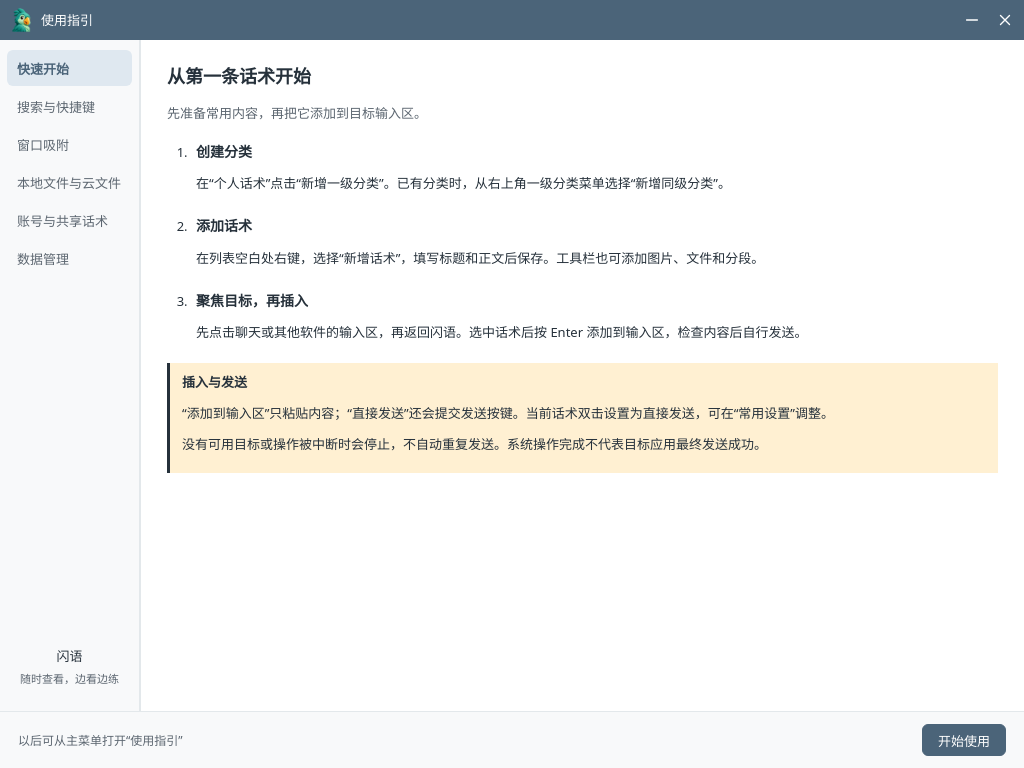
指引显示当前快捷键及点击设置，查看主题不提交投递或示例数据
expect the text "“添加到输入区”只粘贴内容；“直接发送”还会提交发送按键。当前话术双击设置为直接发送，可在“常用设置”调整。" is shown: met, box x1=182 y1=404 x2=834 y2=422
Click the button "搜索与快捷键": (70, 106) x1=7 y1=88 x2=132 y2=124
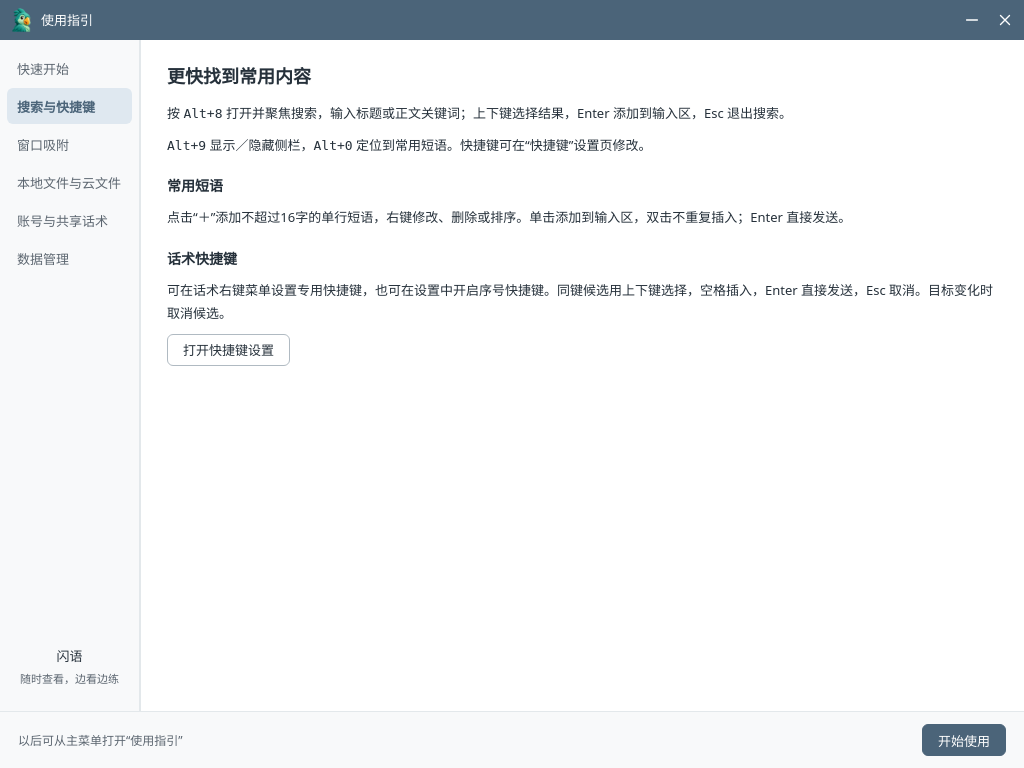
expect the text "Alt+8" is shown: met, box x1=183 y1=106 x2=222 y2=121
expect the text "点击“＋”添加不超过16字的单行短语，右键修改、删除或排序。单击添加到输入区，双击不重复插入；Enter 直接发送。" is shown: met, box x1=167 y1=208 x2=851 y2=226
Click the button "本地文件与云文件": (70, 182) x1=7 y1=164 x2=132 y2=200
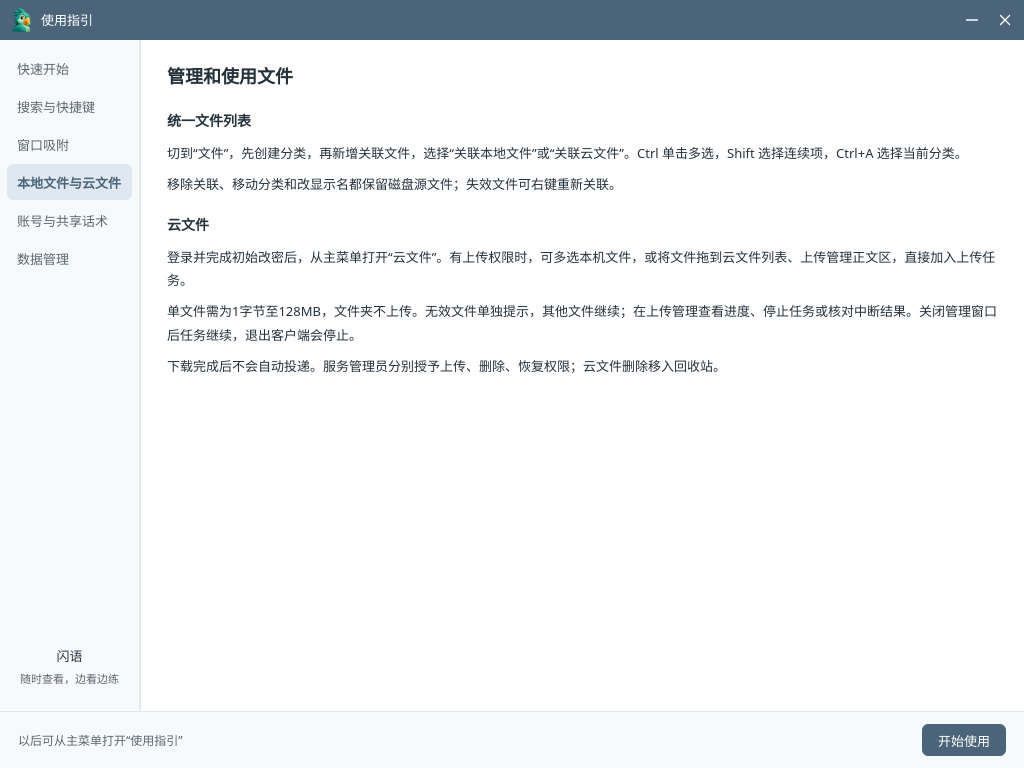
expect the text "单文件需为1字节至128MB" is shown: met, box x1=167 y1=302 x2=997 y2=344
